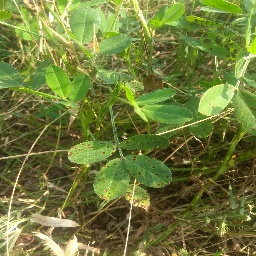GroundNut_Leaf: (126, 158, 173, 185), (199, 84, 235, 117), (200, 32, 241, 58), (70, 8, 100, 43), (143, 104, 191, 125), (67, 140, 112, 161), (118, 133, 169, 151), (45, 63, 70, 99), (101, 35, 131, 57), (1, 62, 24, 89), (160, 2, 186, 25), (72, 72, 91, 102), (138, 87, 173, 103), (127, 185, 150, 209)
